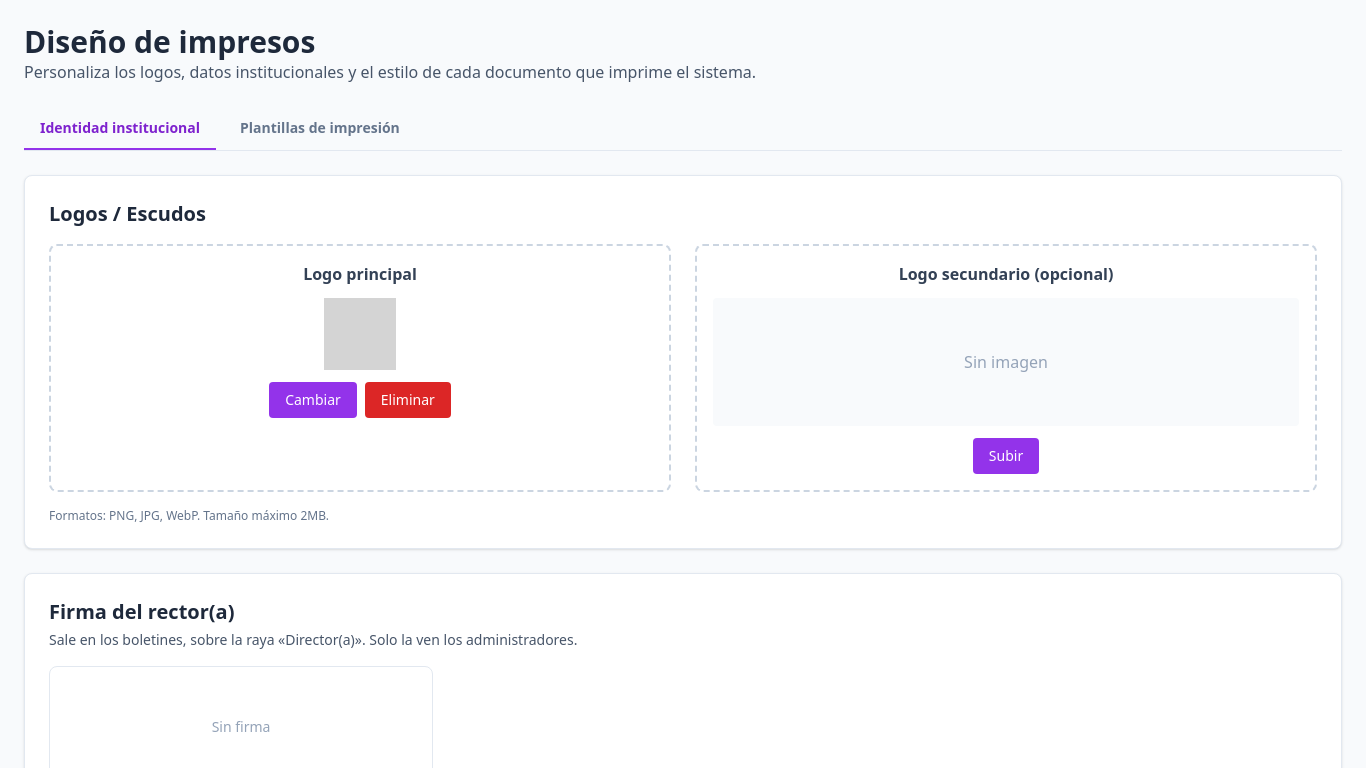
Test: BrandingAdmin › monta identidad inicialmente y plantillas solo al cambiar de pestaña
The width and height of the screenshot is (1366, 768).
Click the button "Plantillas de impresión": (320, 129) [224, 108, 416, 150]
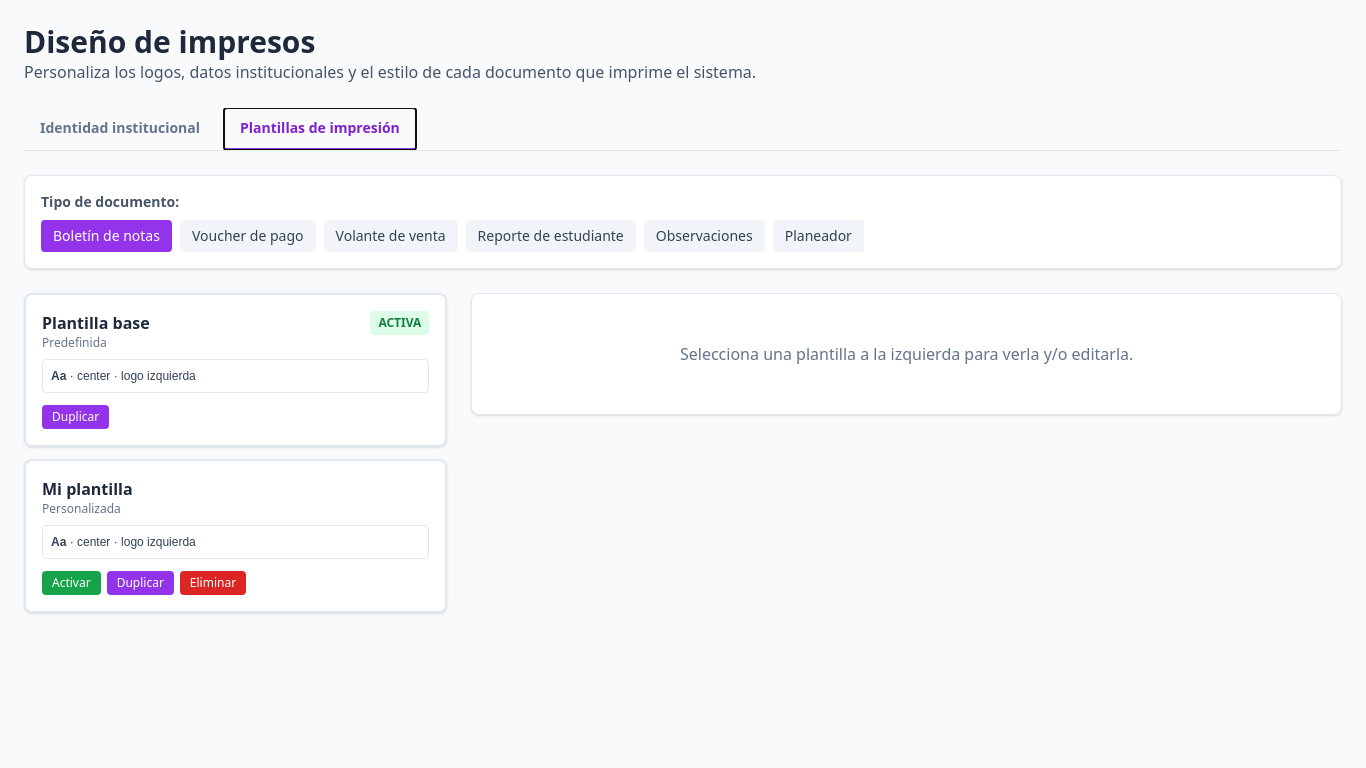
Now the heading "Mi plantilla" is shown, box [42, 477, 133, 501]
